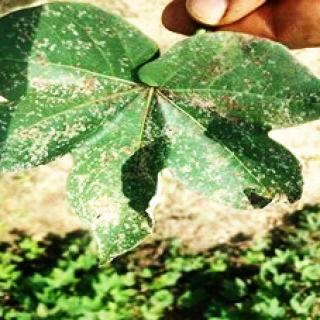grey mildew: (4, 21, 312, 259)
